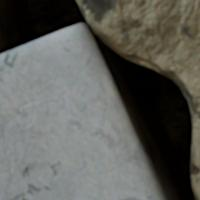brick: (0, 24, 162, 199)
crack: (0, 0, 197, 199)
